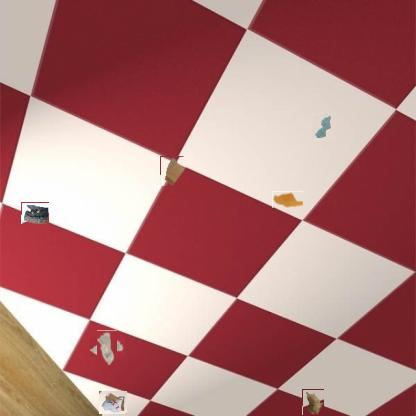dirty: (160, 156, 186, 186), (94, 334, 121, 361), (99, 392, 127, 416), (21, 202, 49, 224), (302, 389, 324, 415)
liquid: (272, 191, 303, 208), (312, 114, 332, 138)
